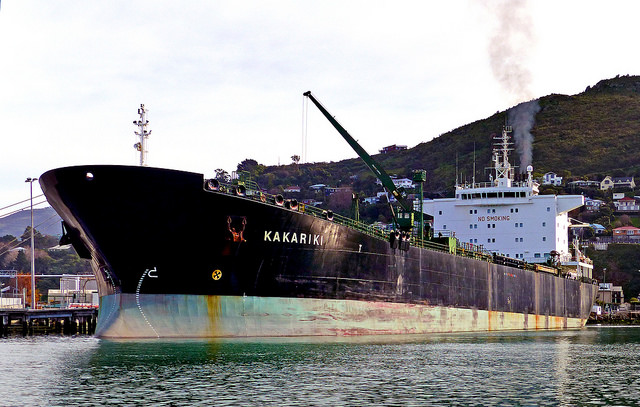tanker: (41, 105, 601, 329)
